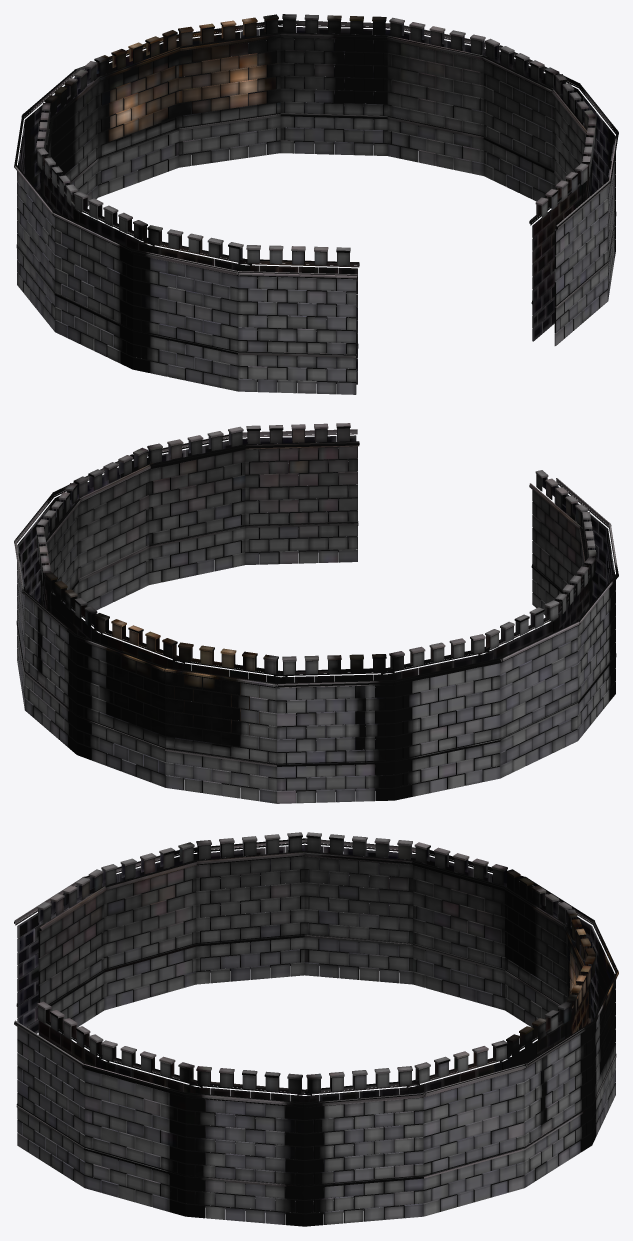
File: ring_wall_skin.glb
3 views of the same model, one above another, from view 1: azimuth 30°, elevation 25°; view 2: azimuth 150°, elevation 25°; view 3: azimuth 270°, elevation 25° (orthographic). The views are drawn at different scales.
Visible parts, largest first — view 1: ring_wall_skin.001; view 2: ring_wall_skin.001; view 3: ring_wall_skin.001.
Part boxes in pixels (left/top/right/bottom): ring_wall_skin.001: left=14, top=14, right=618, bottom=394; ring_wall_skin.001: left=14, top=423, right=618, bottom=803; ring_wall_skin.001: left=14, top=832, right=618, bottom=1226.
Size of the model in its own units: 39.33 by 9.69 by 37.86.
Materials: 1 (1 with a texture image).
